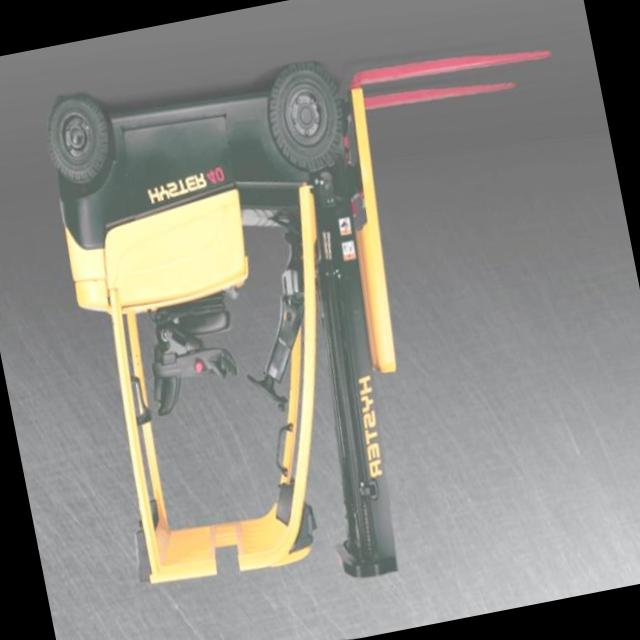forklift: (0, 15, 493, 640)
